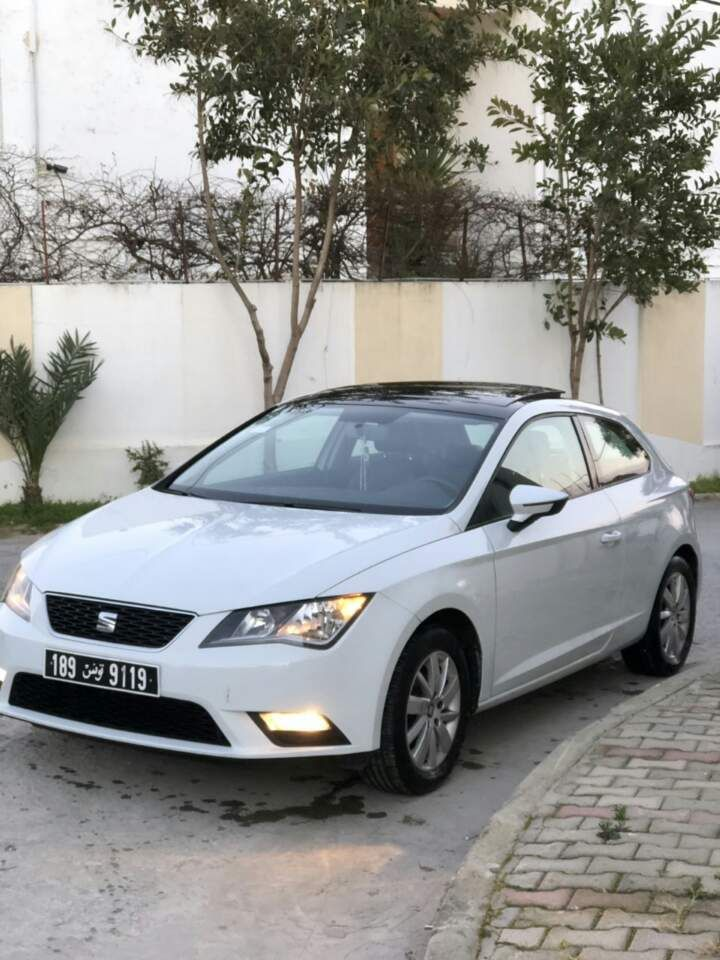LP: (43, 646, 162, 699)
